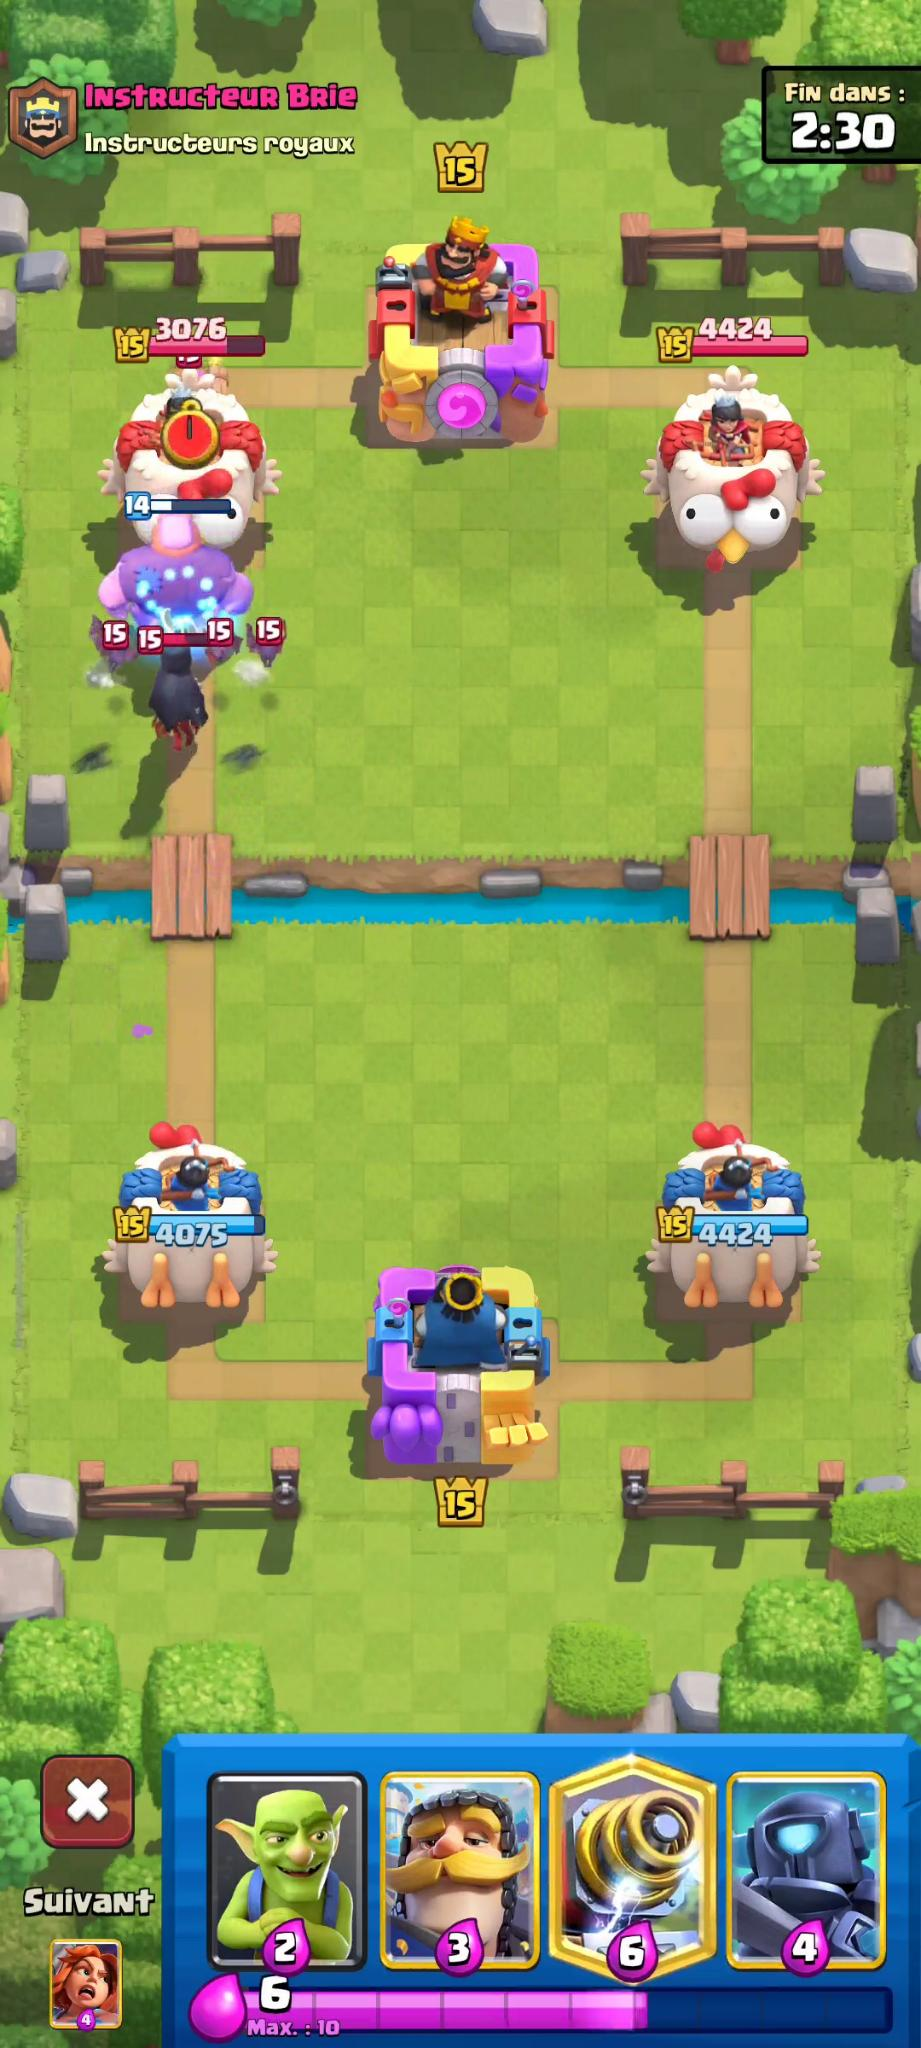bat: (82, 611, 150, 686), (246, 611, 295, 671), (199, 616, 246, 666)
geant: (90, 498, 269, 667)
